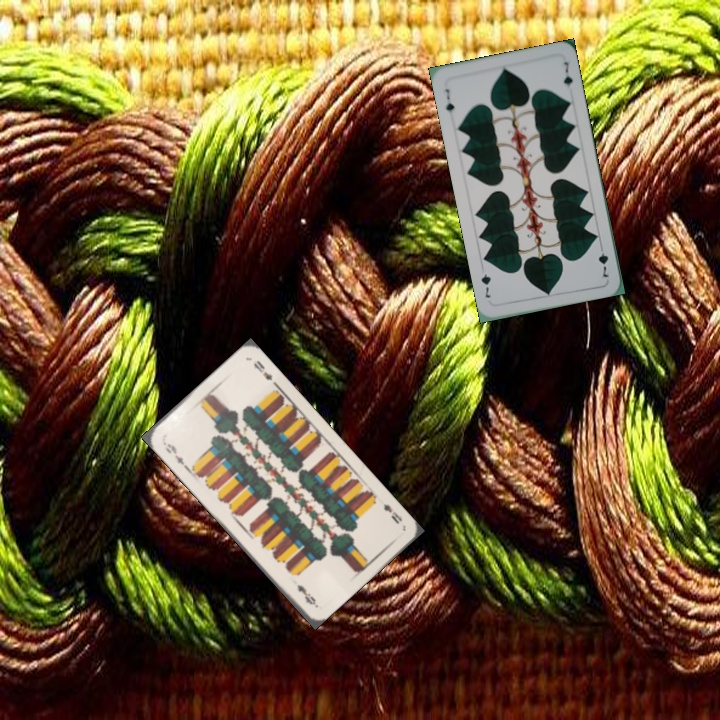E9: (159, 438, 190, 470), (379, 499, 405, 527)
G7: (594, 240, 611, 280), (441, 85, 457, 115)
